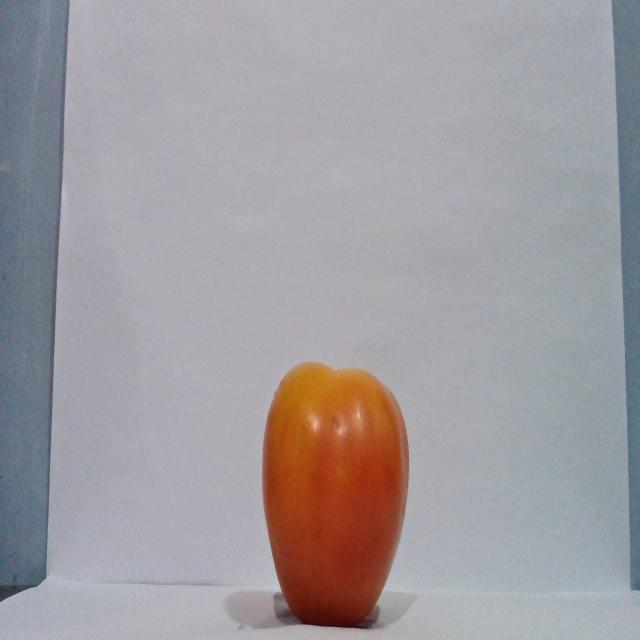Red: (260, 359, 410, 627)
